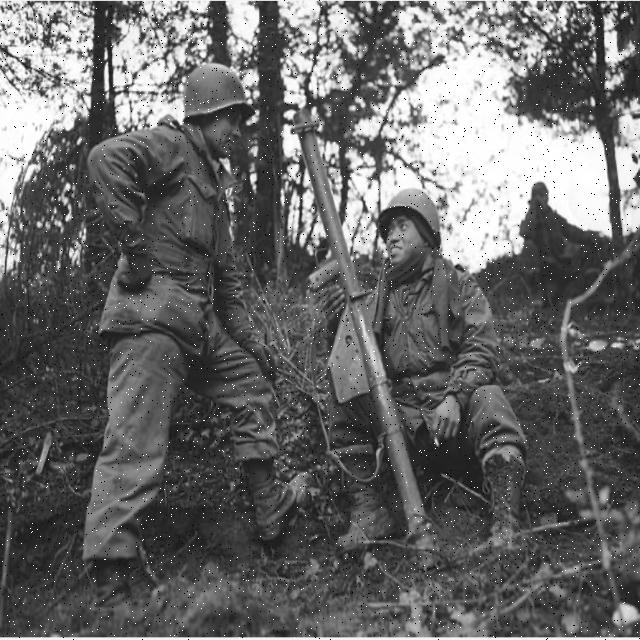bazooka: (289, 104, 451, 583)
